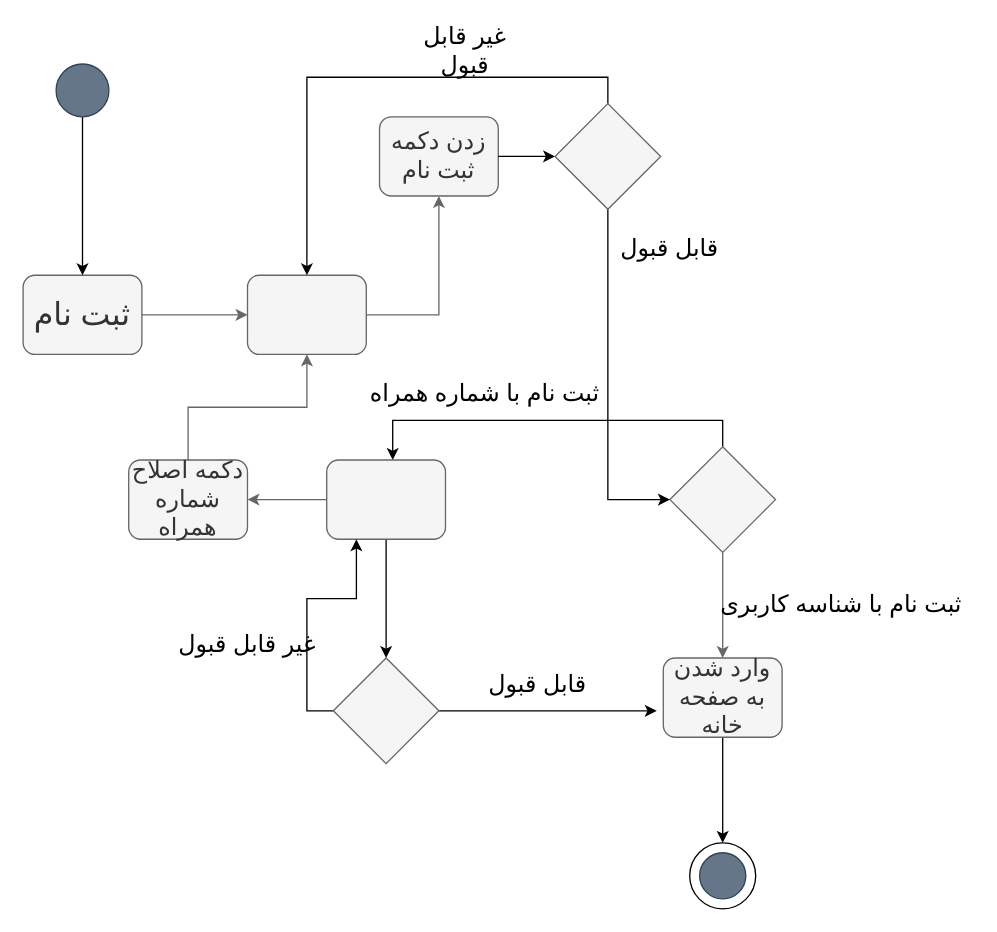
The diagram is 997 pixels wide and 932 high, and some of its shapes have lost their labels. The centre of each missing label's shape, as x and y in pixels:
رفتن به صفحه احراز هویت: point (385, 499)
وارد کردن اطلاعات: point (306, 314)
